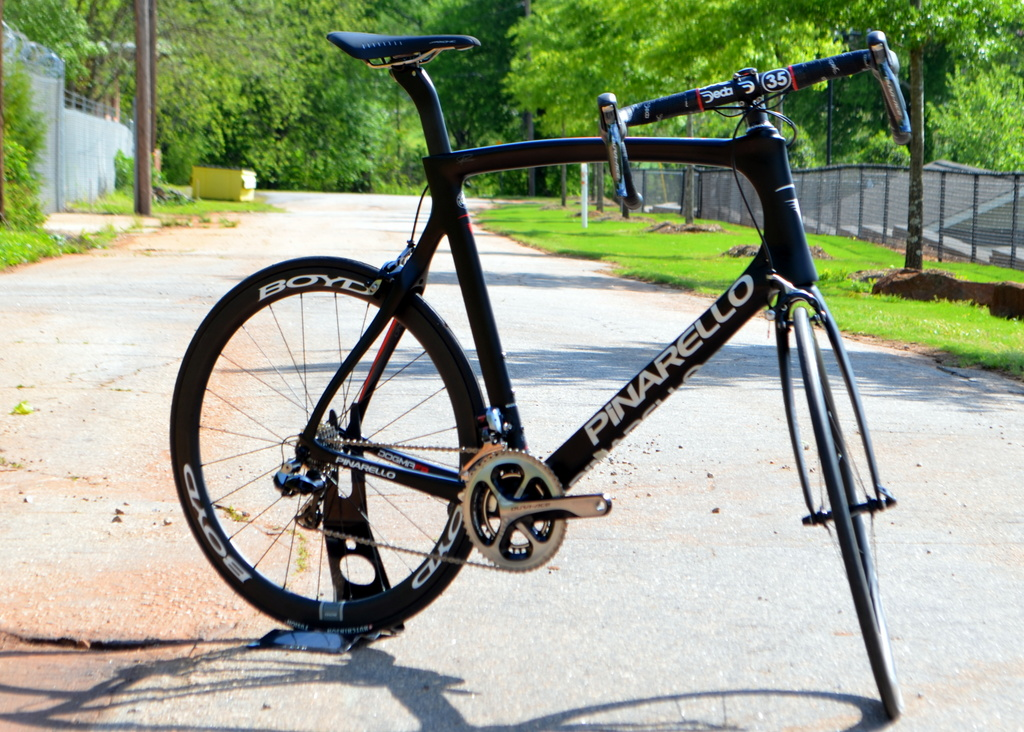Wheel: (174, 258, 497, 638), (794, 307, 906, 714)
